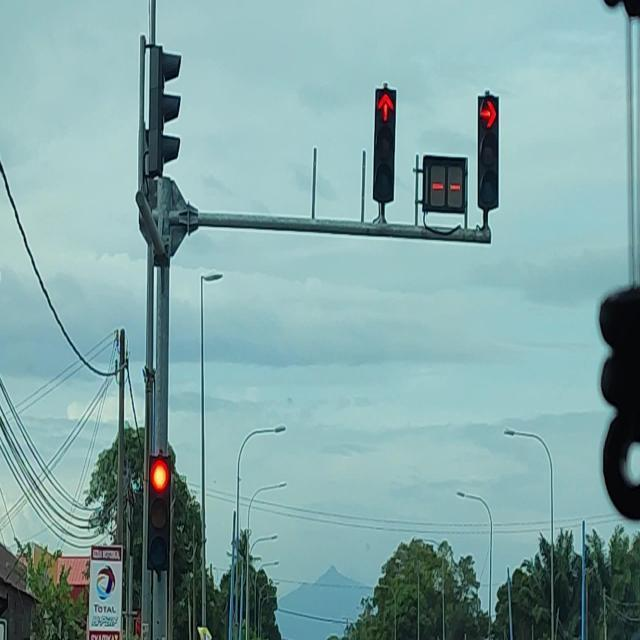red_light: (372, 88, 398, 200), (146, 456, 171, 570), (476, 96, 499, 208)
